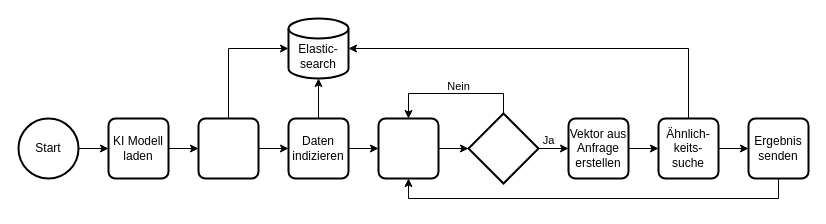
Some shapes in this 826 by 224 pixel diagram are drawn without their labels. Each missing label, with the box of its shape:
Anfrage erhalten: (467, 112, 539, 184)
Auf Anfrage warten: (377, 117, 439, 179)
Mit Elastic-search verbinden: (197, 117, 259, 179)
